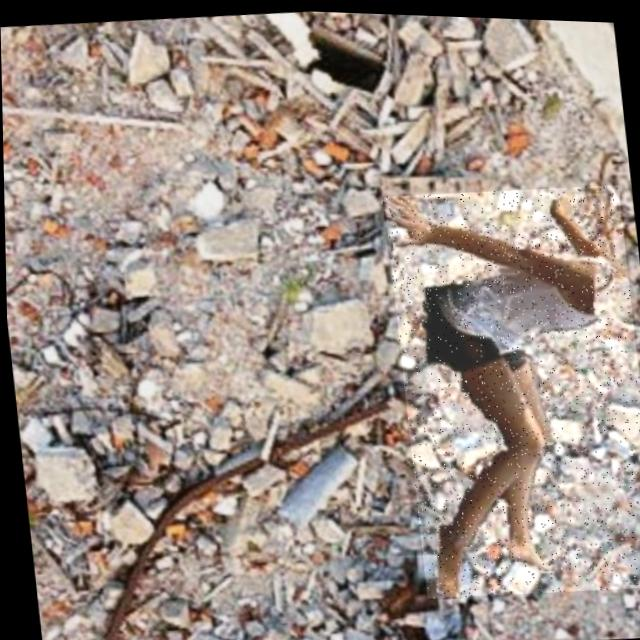Person in Rubble: (381, 173, 640, 602)
